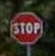stop: (9, 11, 43, 44)
